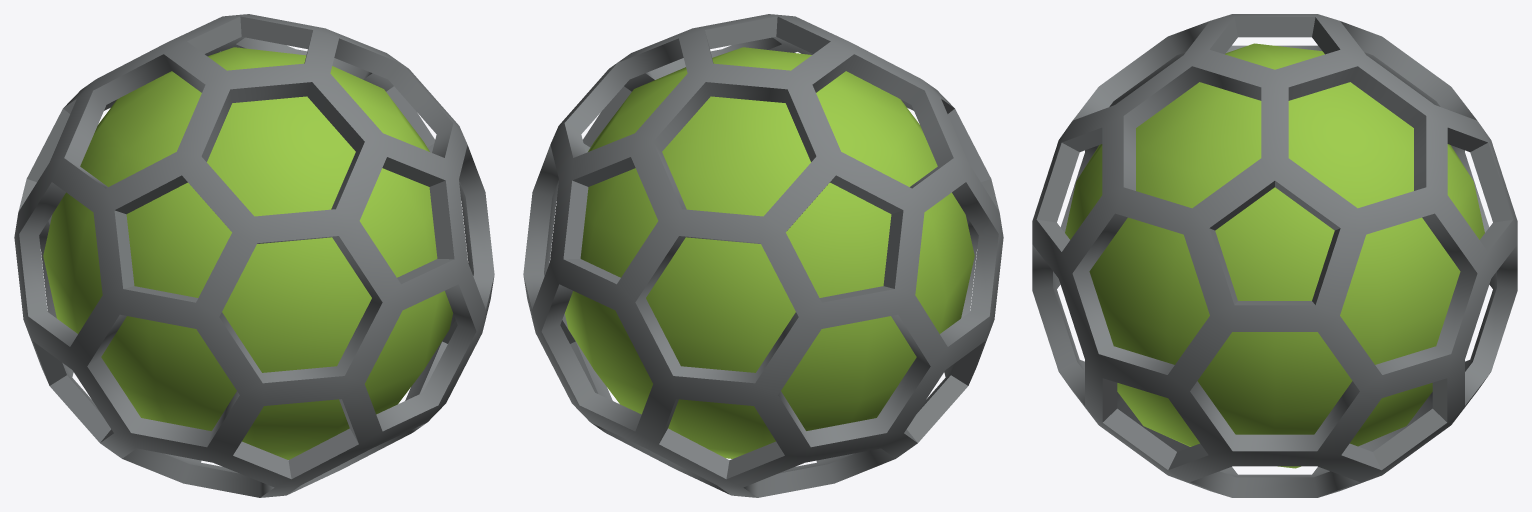
The model's file is Artifact_08.fbx.
3 views of the same model, side by side, from view 1: azimuth 30°, elevation 25°; view 2: azimuth 150°, elevation 25°; view 3: azimuth 270°, elevation 25° (orthographic).
Parts seen in each view (by area): view 1: Artifact_08; view 2: Artifact_08; view 3: Artifact_08.
Part boxes in pixels (x1,y1,x2,y2): Artifact_08: (14, 14, 494, 497); Artifact_08: (523, 14, 1003, 497); Artifact_08: (1032, 14, 1517, 497).
Size of the model in its own units: 109 by 110 by 107.
